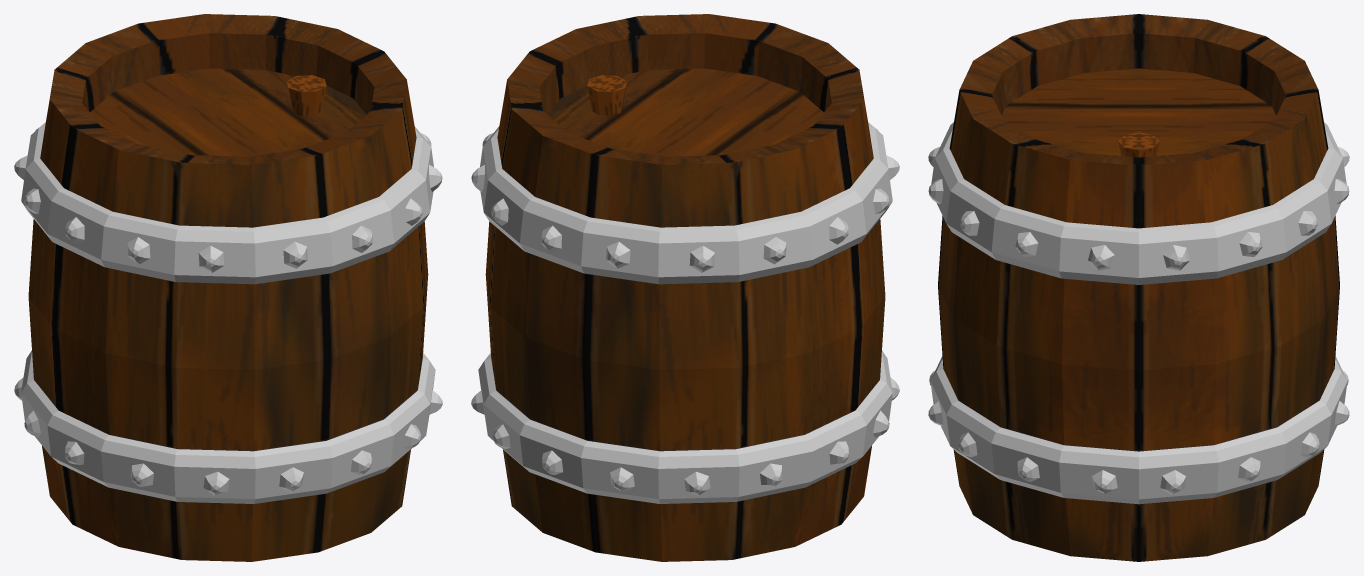
Rendered from Barrel_Ringed 1.fbx.
3 renders of one model, left to right at view 1: azimuth 30°, elevation 25°; view 2: azimuth 150°, elevation 25°; view 3: azimuth 270°, elevation 25°, orthographic.
Visible parts, largest first — view 1: Barrel_Ringed; view 2: Barrel_Ringed; view 3: Barrel_Ringed.
Boxes of the visible parts, <box> form: Barrel_Ringed: <box>14,14,442,561</box>; Barrel_Ringed: <box>471,14,899,561</box>; Barrel_Ringed: <box>928,14,1349,561</box>.
Bounding box in the file's own units: 191 × 198 × 190.
